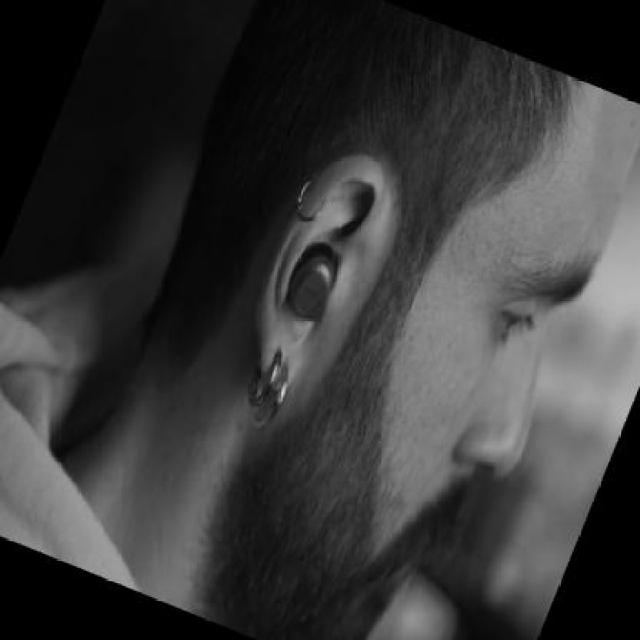earphone: (280, 233, 342, 356)
